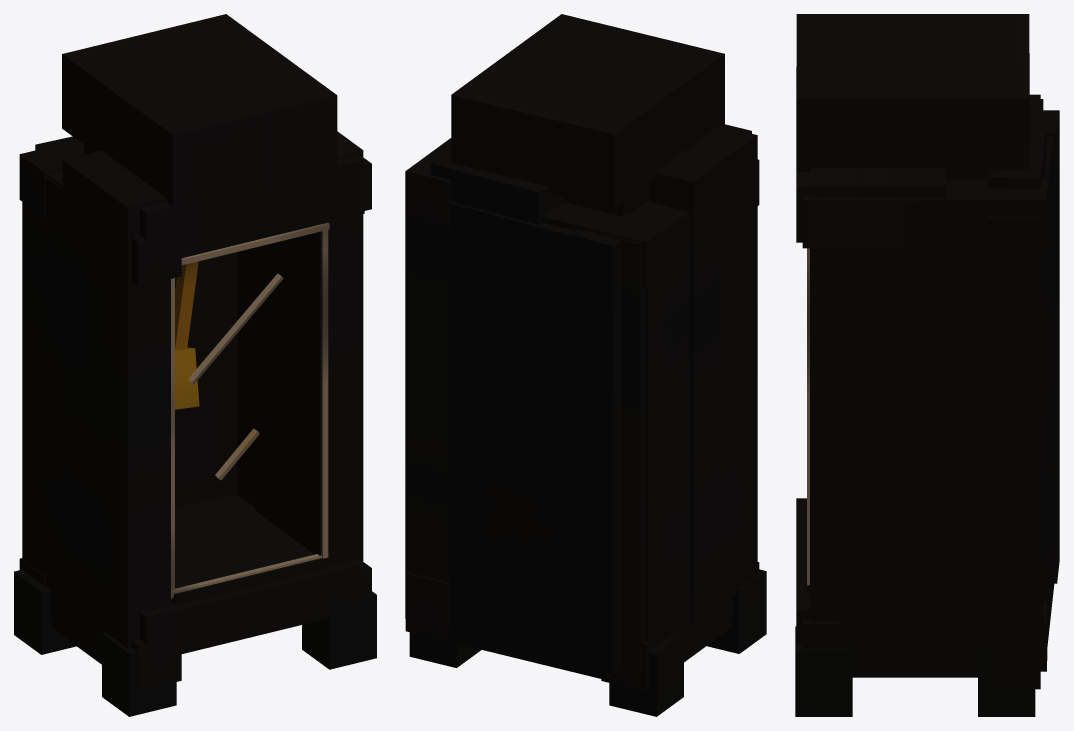
Rendered from oldclock_01_quill.fbx.
3 renders of one model, left to right at view 1: azimuth 30°, elevation 25°; view 2: azimuth 150°, elevation 25°; view 3: azimuth 270°, elevation 25°, orthographic. The views are drawn at different scales.
Parts seen in each view (by area): view 1: Oldlamp_01_quill; view 2: Oldlamp_01_quill; view 3: Oldlamp_01_quill.
Part boxes in pixels (box(x1,y1,x2,y2)): Oldlamp_01_quill: box(14, 14, 376, 716); Oldlamp_01_quill: box(405, 14, 766, 716); Oldlamp_01_quill: box(795, 14, 1059, 716).
Bounding box in the file's own units: 0.5798 × 1.27 × 0.5066.
